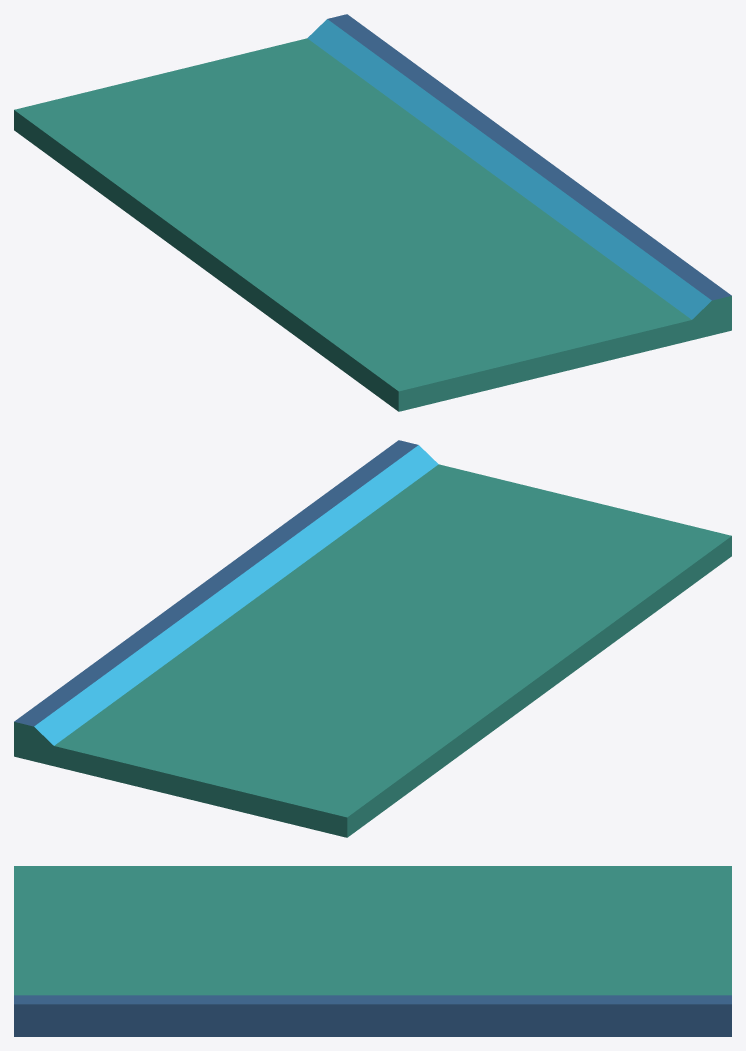
File: Water_Sides.fbx
3 views of the same model, one above another, from view 1: azimuth 30°, elevation 25°; view 2: azimuth 150°, elevation 25°; view 3: azimuth 270°, elevation 25° (orthographic). The views are drawn at different scales.
Visible parts, largest first — view 1: Water_Sides; view 2: Water_Sides; view 3: Water_Sides.
Part boxes in pixels (<box>): Water_Sides: <box>14,14,731,411</box>; Water_Sides: <box>14,440,731,837</box>; Water_Sides: <box>14,866,731,1036</box>.
Bounding box in the file's own units: 1 × 2 × 0.1.
